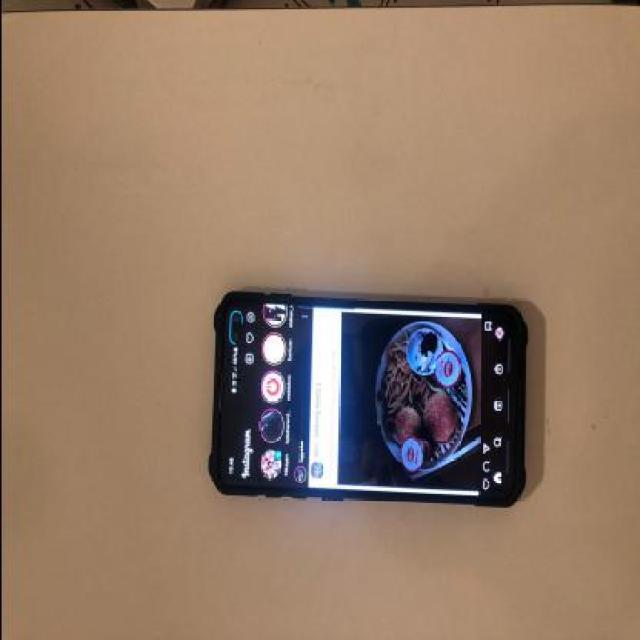phone: (204, 288, 530, 504)
